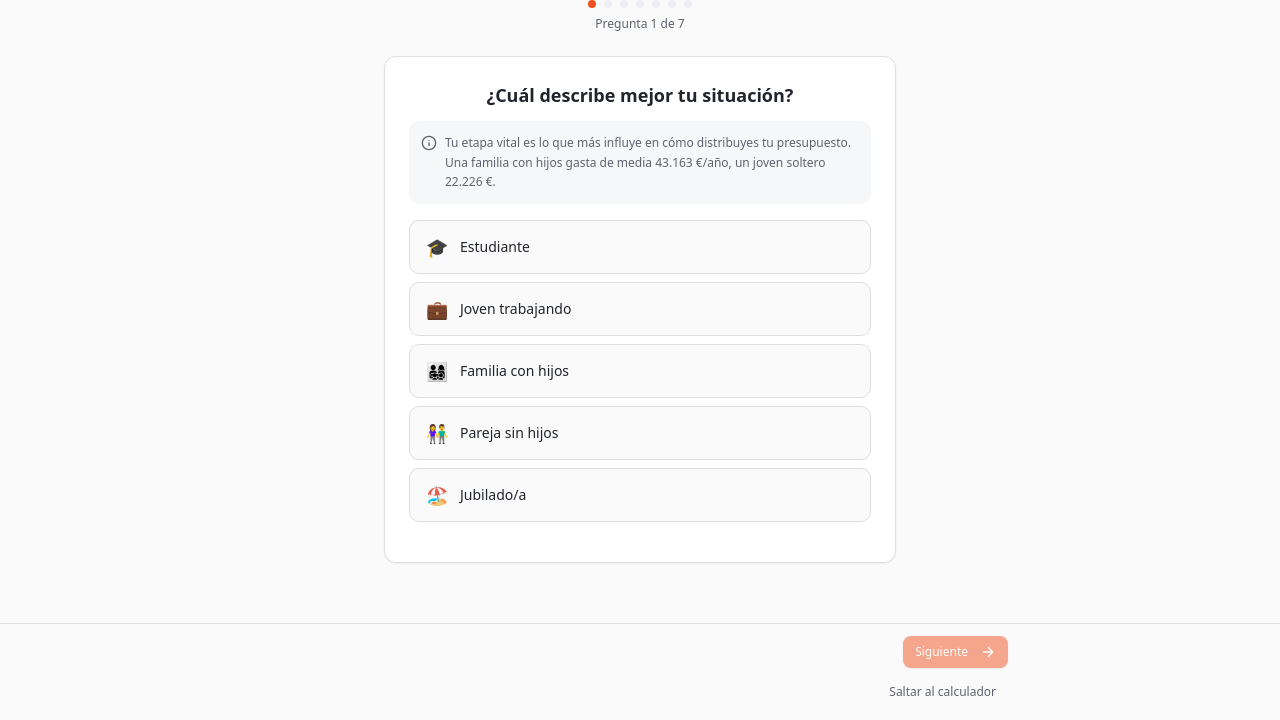
Test: OnboardingQuiz › requires pressing Siguiente to advance
The width and height of the screenshot is (1280, 720).
Click the button "🎓 Estudiante".
click(495, 246)  # box [409, 220, 871, 274]
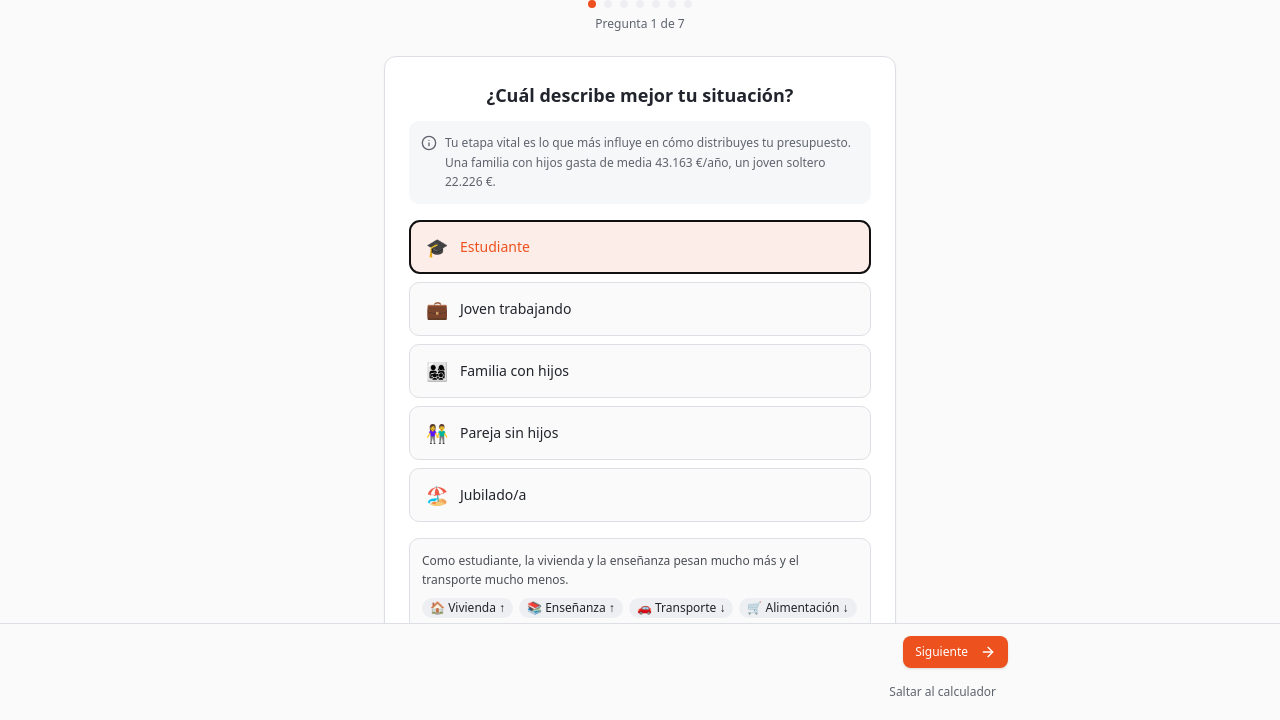
Check: the text "Pregunta 1 de 7" is shown, box [595, 15, 685, 32]
Click the button "Siguiente".
click(956, 652)  # box [903, 636, 1008, 668]
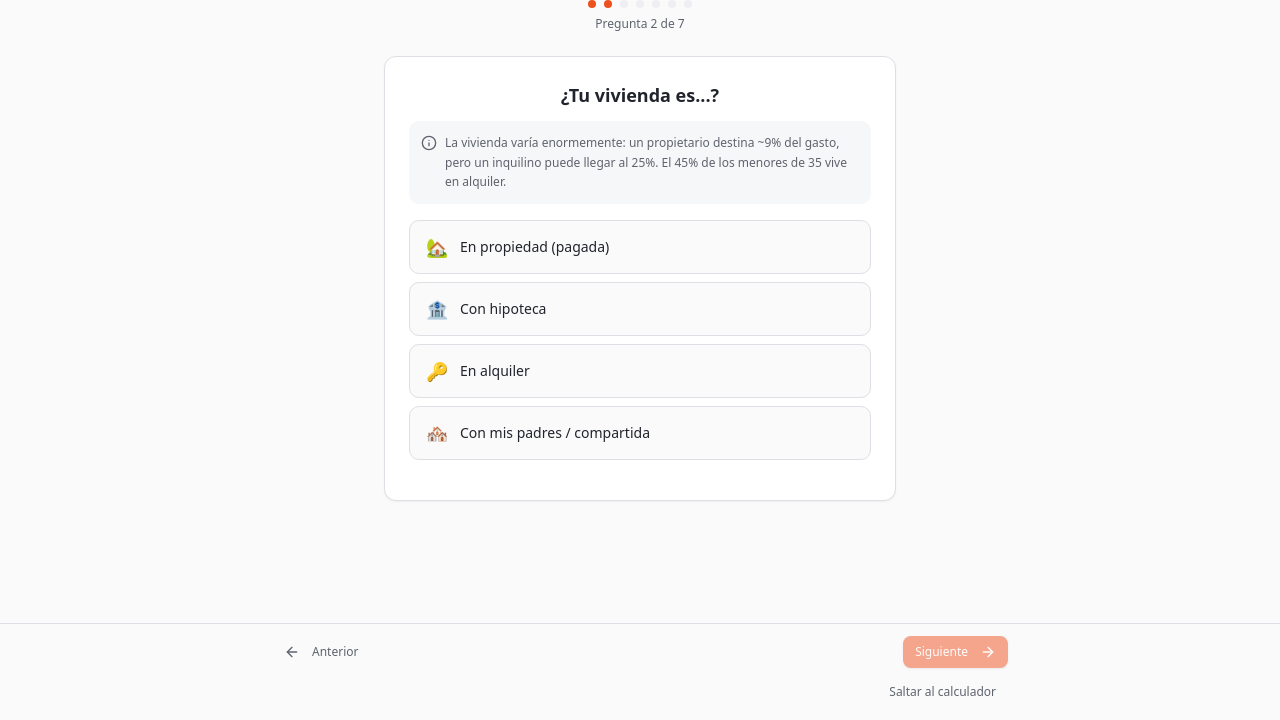
Check: the text "Pregunta 2 de 7" is shown, box [595, 15, 685, 32]
